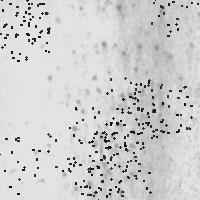pitted_surface: (58, 1, 175, 190), (91, 131, 149, 191), (98, 77, 156, 137), (69, 107, 127, 166), (0, 133, 55, 193), (133, 83, 190, 132), (0, 3, 48, 61), (58, 158, 118, 200), (0, 0, 48, 38), (150, 0, 200, 35), (75, 168, 122, 200)
